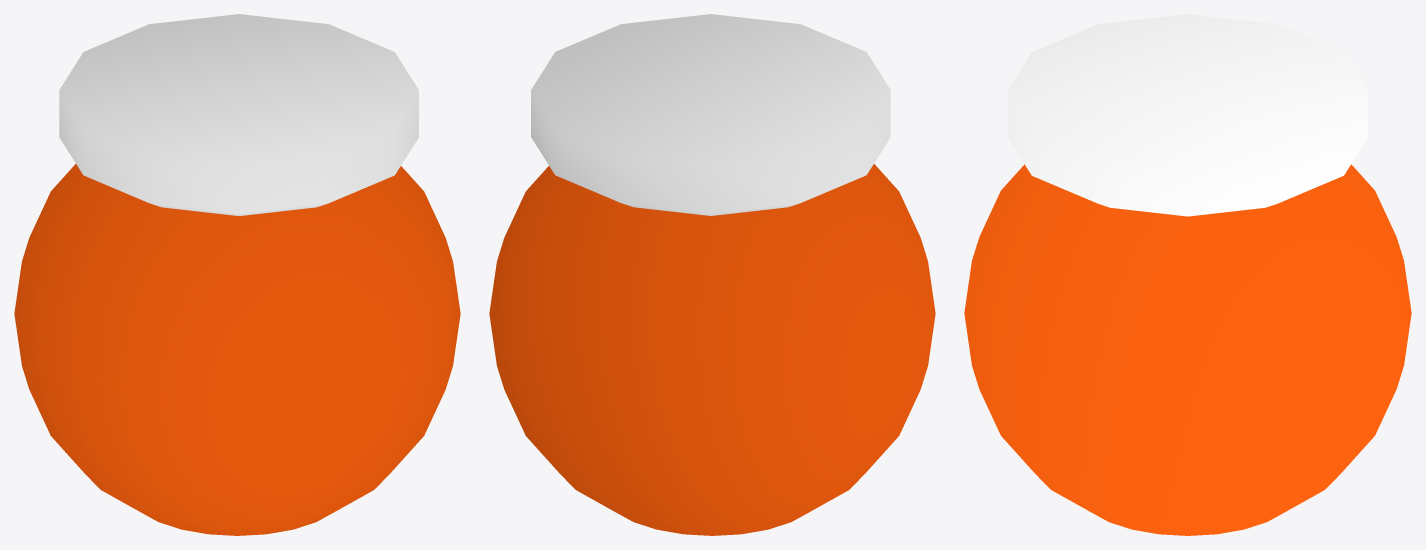
3 renders of one model, left to right at view 1: azimuth 30°, elevation 25°; view 2: azimuth 150°, elevation 25°; view 3: azimuth 270°, elevation 25°, orthographic.
Parts seen in each view (by area): view 1: FP407:Cylinder.239_82c549c3; view 2: FP407:Cylinder.239_82c549c3; view 3: FP407:Cylinder.239_82c549c3.
Boxes of the visible parts, x1,y1,x2,y2 form: FP407:Cylinder.239_82c549c3: (14,14,460,535); FP407:Cylinder.239_82c549c3: (489,14,935,535); FP407:Cylinder.239_82c549c3: (964,14,1411,535).
Size of the model in its own units: 0.202 by 0.2125 by 0.202.
